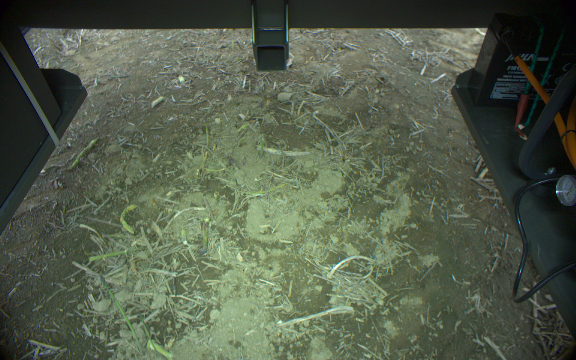aspa: (97, 276, 143, 354), (63, 135, 103, 172), (139, 316, 158, 355), (117, 203, 140, 235), (145, 338, 174, 360)
